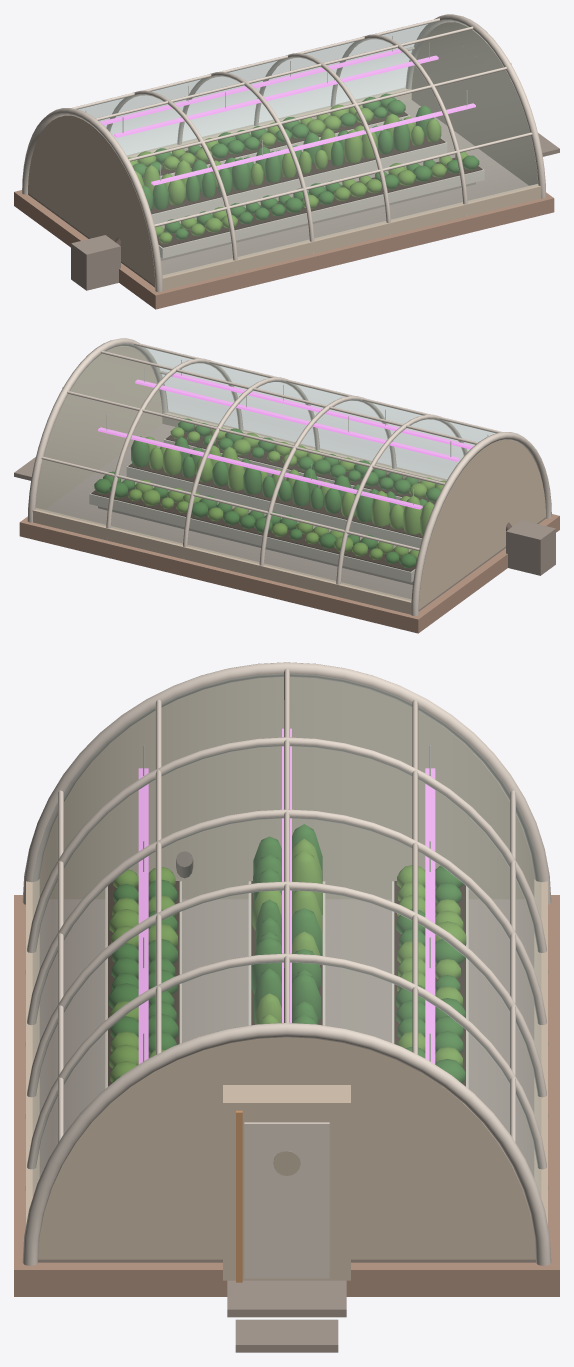
Rendered from A01_arched_greenhouse_10m.glb.
3 renders of one model, top to bottom at view 1: azimuth 30°, elevation 25°; view 2: azimuth 150°, elevation 25°; view 3: azimuth 270°, elevation 25°, orthographic. The views are drawn at different scales.
Parts seen in each view (by area): view 1: glazing, rib, end_wall, floor, foundation, grow_light; view 2: glazing, rib, end_wall, floor, foundation, grow_light; view 3: glazing, end_wall, rib, floor, foundation, grow_light.
Part boxes in pixels (left/top/right/bottom): glazing: left=77, top=19, right=538, bottom=276; rib: left=22, top=14, right=546, bottom=292; end_wall: left=28, top=22, right=538, bottom=285; floor: left=28, top=100, right=559, bottom=290; foundation: left=14, top=190, right=554, bottom=309; grow_light: left=100, top=49, right=475, bottom=185; glazing: left=35, top=343, right=496, bottom=600; rib: left=27, top=338, right=551, bottom=616; end_wall: left=35, top=346, right=545, bottom=609; floor: left=14, top=424, right=555, bottom=611; foundation: left=19, top=514, right=559, bottom=633; grow_light: left=98, top=373, right=473, bottom=509; glazing: left=33, top=674, right=540, bottom=1195; end_wall: left=38, top=677, right=535, bottom=1259; rib: left=22, top=662, right=551, bottom=1282; floor: left=38, top=899, right=535, bottom=1352; foundation: left=14, top=895, right=559, bottom=1296; grow_light: left=138, top=728, right=435, bottom=1064.
Size of the model in its own units: 12.9 by 3.45 by 6.4.
